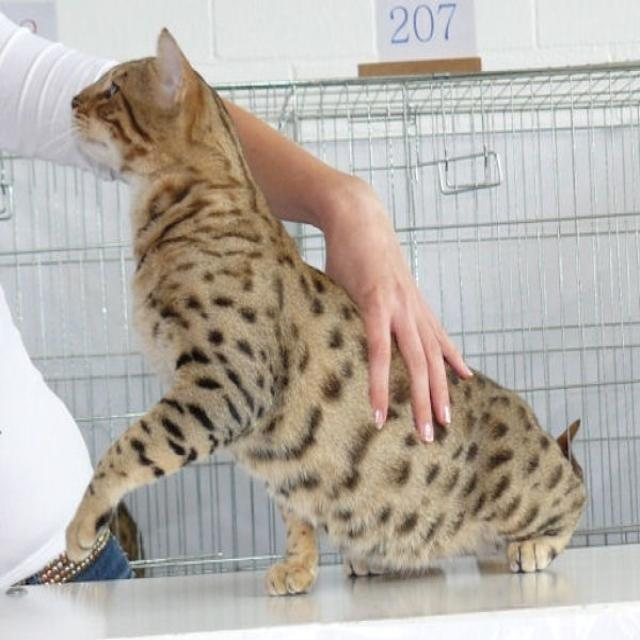Bengal: (61, 42, 585, 598)
